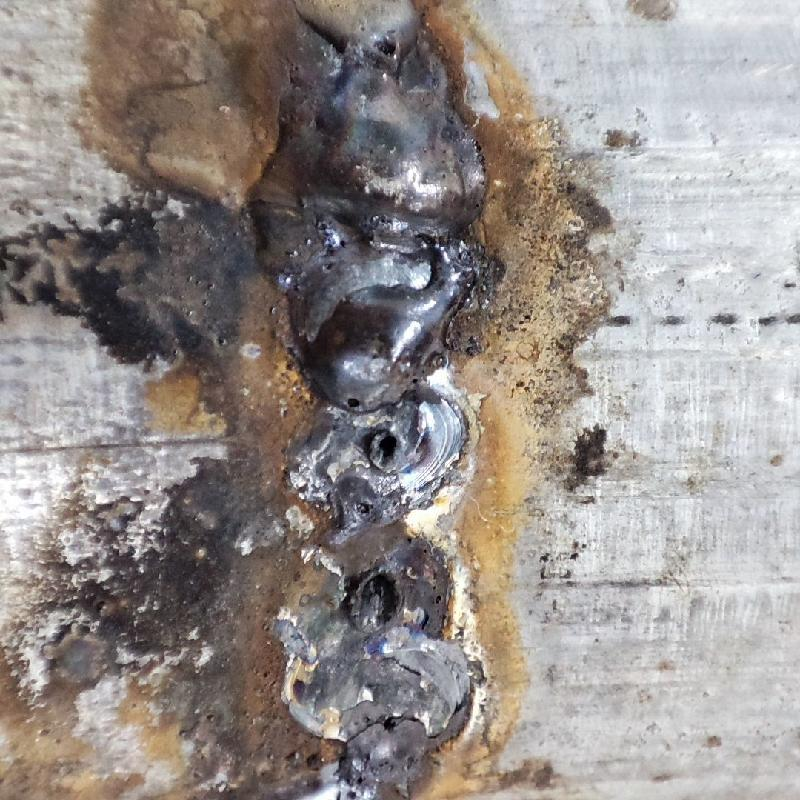Not_fully_soldered: (249, 405, 491, 798), (274, 2, 449, 75)
Surface_pores: (363, 424, 409, 475), (338, 481, 378, 525), (339, 383, 376, 421)
Weld: (240, 75, 494, 413)
